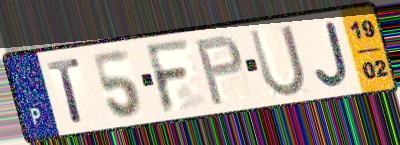5: (89, 46, 144, 120)
F: (143, 36, 194, 116)
J: (312, 18, 352, 89)
P: (192, 32, 245, 108)
T: (44, 56, 85, 125)
U: (246, 22, 309, 100)
